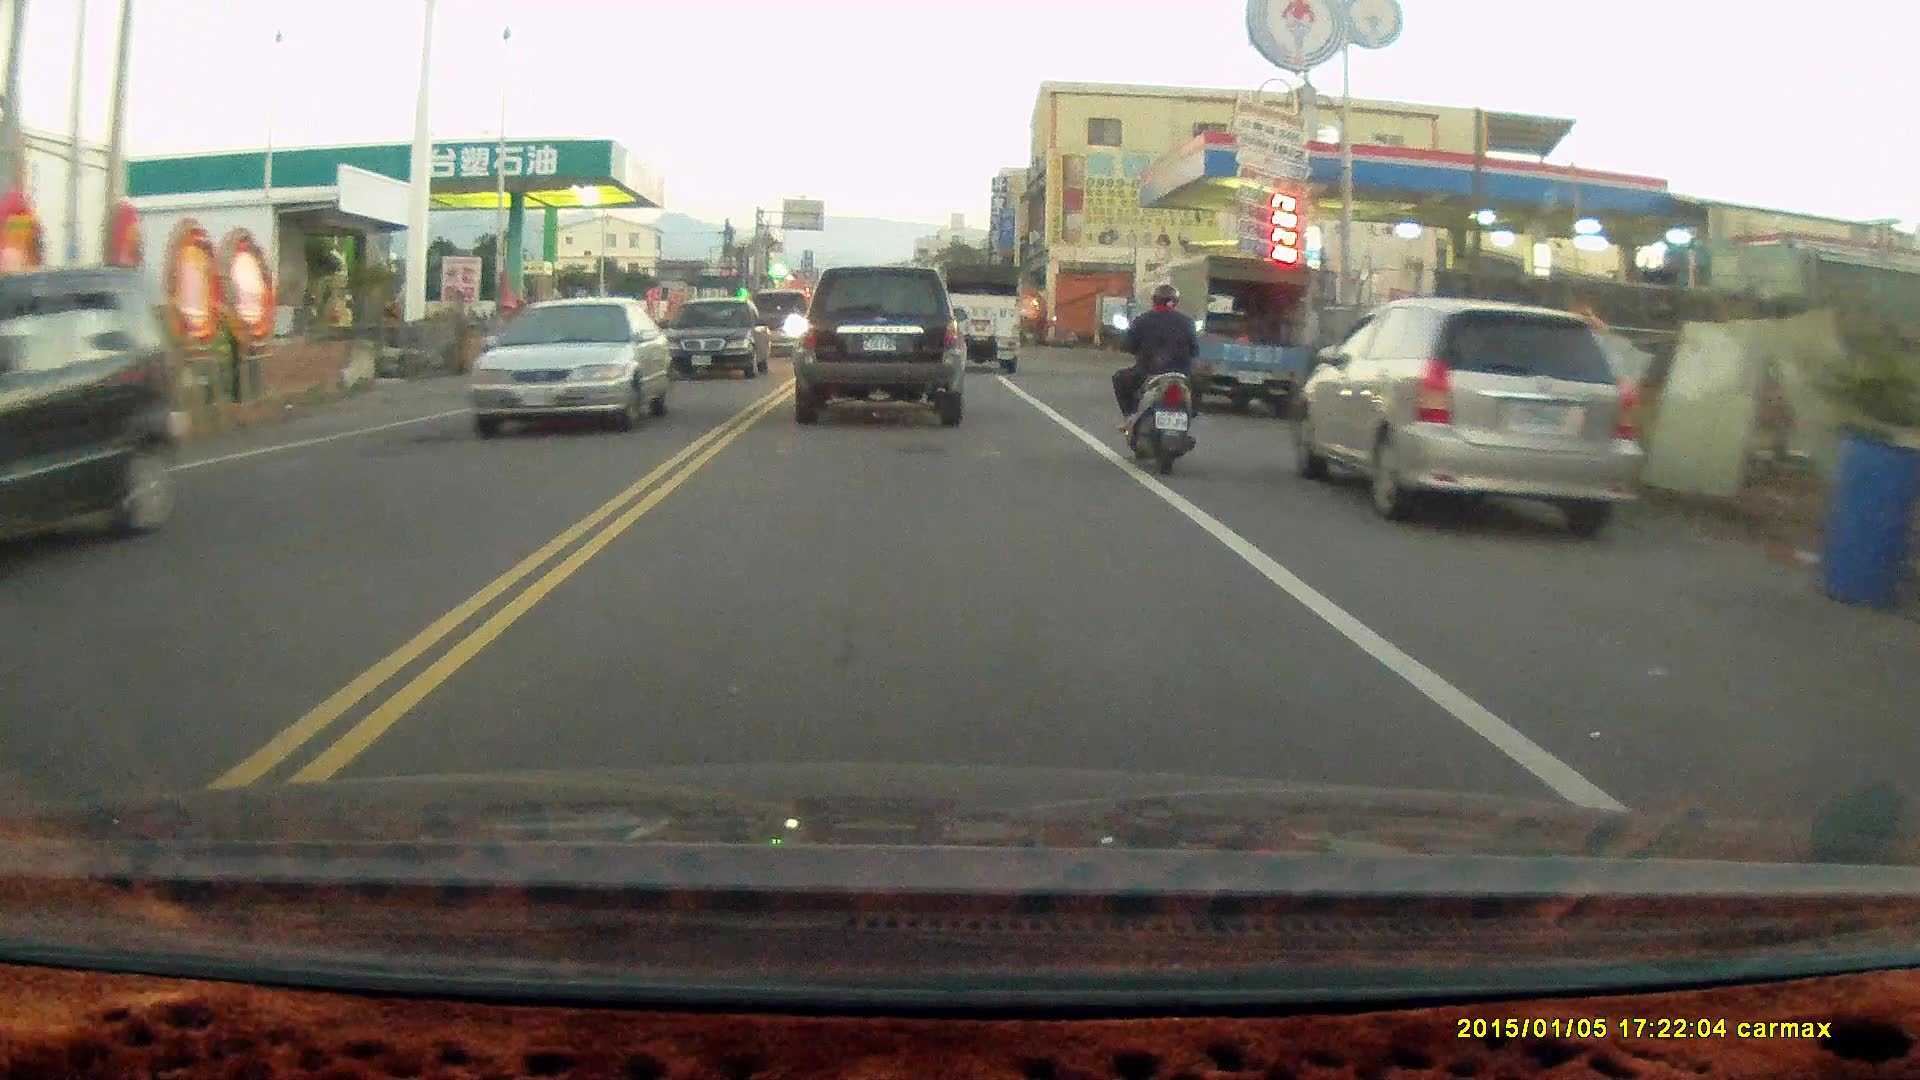rider: (1109, 280, 1207, 473)
vehicle: (1296, 296, 1641, 542), (1, 270, 194, 569), (468, 293, 674, 441), (794, 264, 967, 426), (1145, 256, 1307, 416), (937, 258, 1021, 373), (664, 297, 770, 376)
